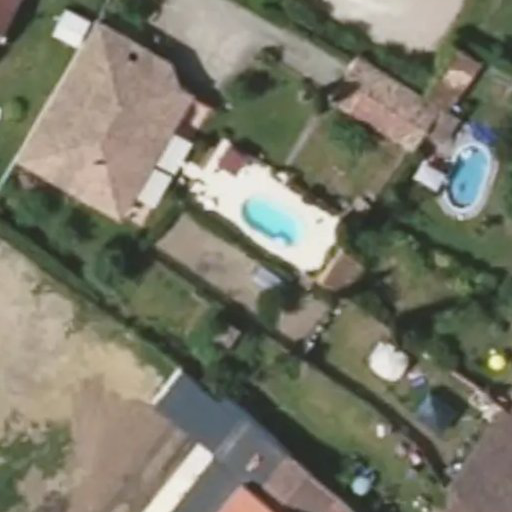pool: (219, 237, 292, 246)
